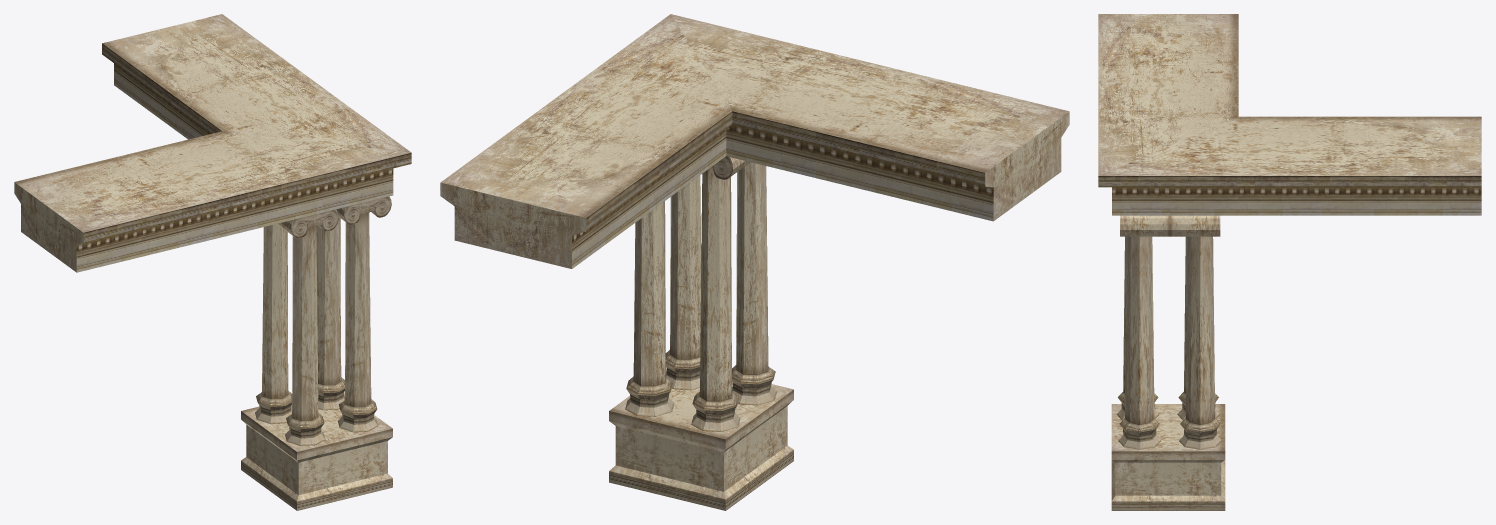
Rendered from svpergola3.dae.
3 views of the same model, side by side, from view 1: azimuth 30°, elevation 25°; view 2: azimuth 150°, elevation 25°; view 3: azimuth 270°, elevation 25° (orthographic). The views are drawn at different scales.
Parts seen in each view (by area): view 1: cube4_copy22-0; view 2: cube4_copy22-0; view 3: cube4_copy22-0.
Boxes of the visible parts, x1=… form: cube4_copy22-0: x1=14, y1=14, x2=411, y2=510; cube4_copy22-0: x1=440, y1=14, x2=1069, y2=510; cube4_copy22-0: x1=1098, y1=14, x2=1481, y2=510.
Bounding box in the file's own units: 612 × 600 × 612.
